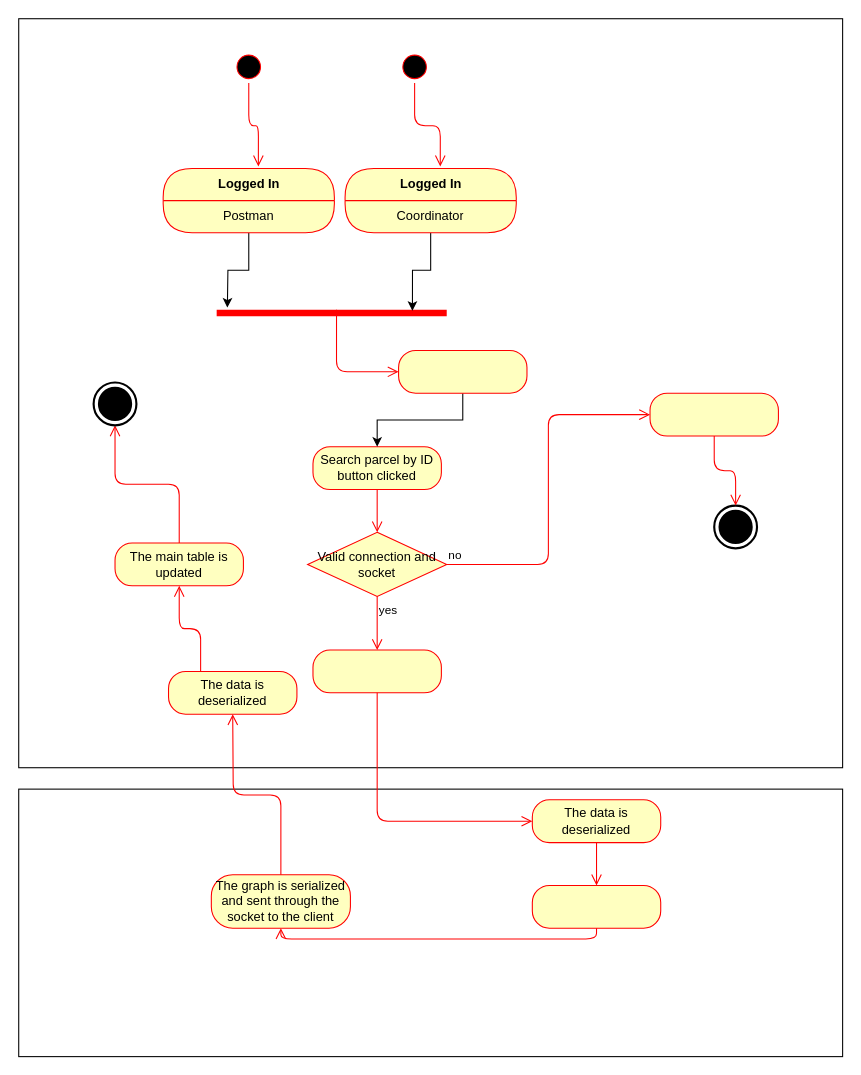
Some shapes in this 861 by 1075 pixel diagram are drawn without their labels. The shapes that lost their labels are listed below. From the top down, each one's centre as x and y in pixels, then its label:
[462,371]: Parcel ID inserted into text box
[713,414]: Display 'Failed Connection' message
[376,671]: Send request through the socket
[596,906]: The DB is being querried
